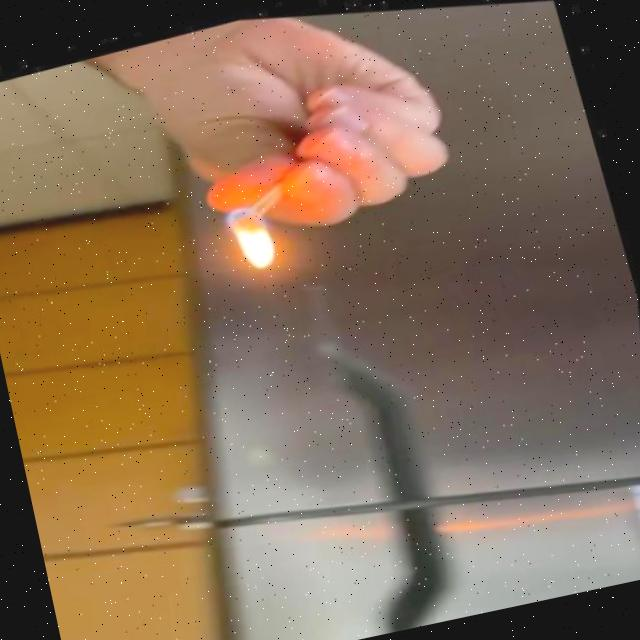fire: (217, 191, 298, 277)
